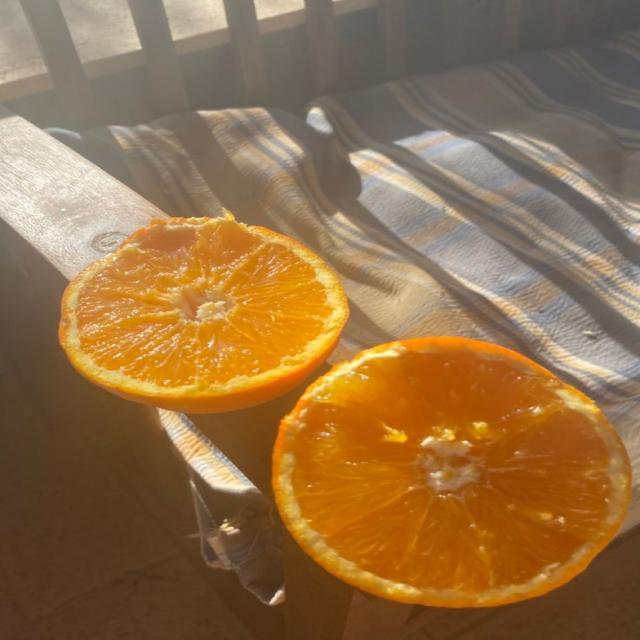orange: (274, 337, 630, 606), (60, 214, 347, 412)
